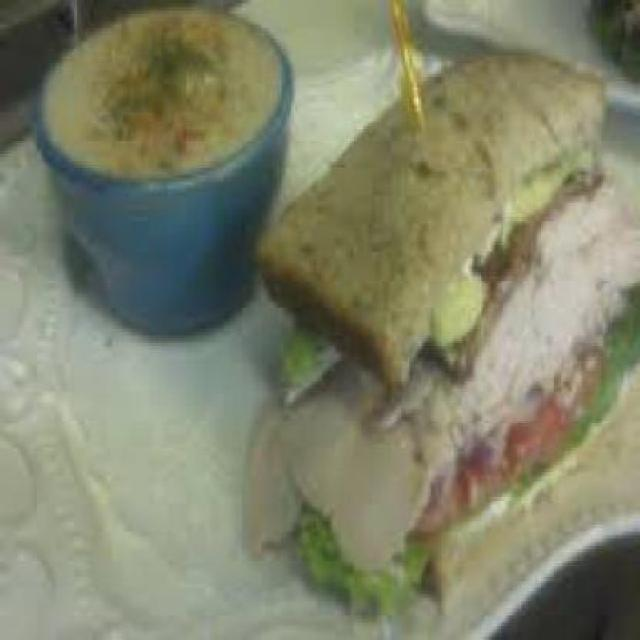clam chowder: (21, 3, 288, 332)
club sandwich: (256, 46, 633, 636)
